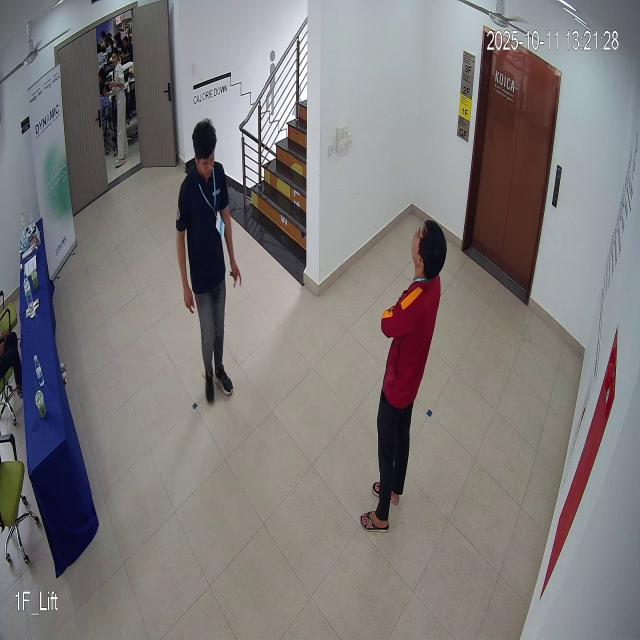face: (192, 112, 223, 184)
